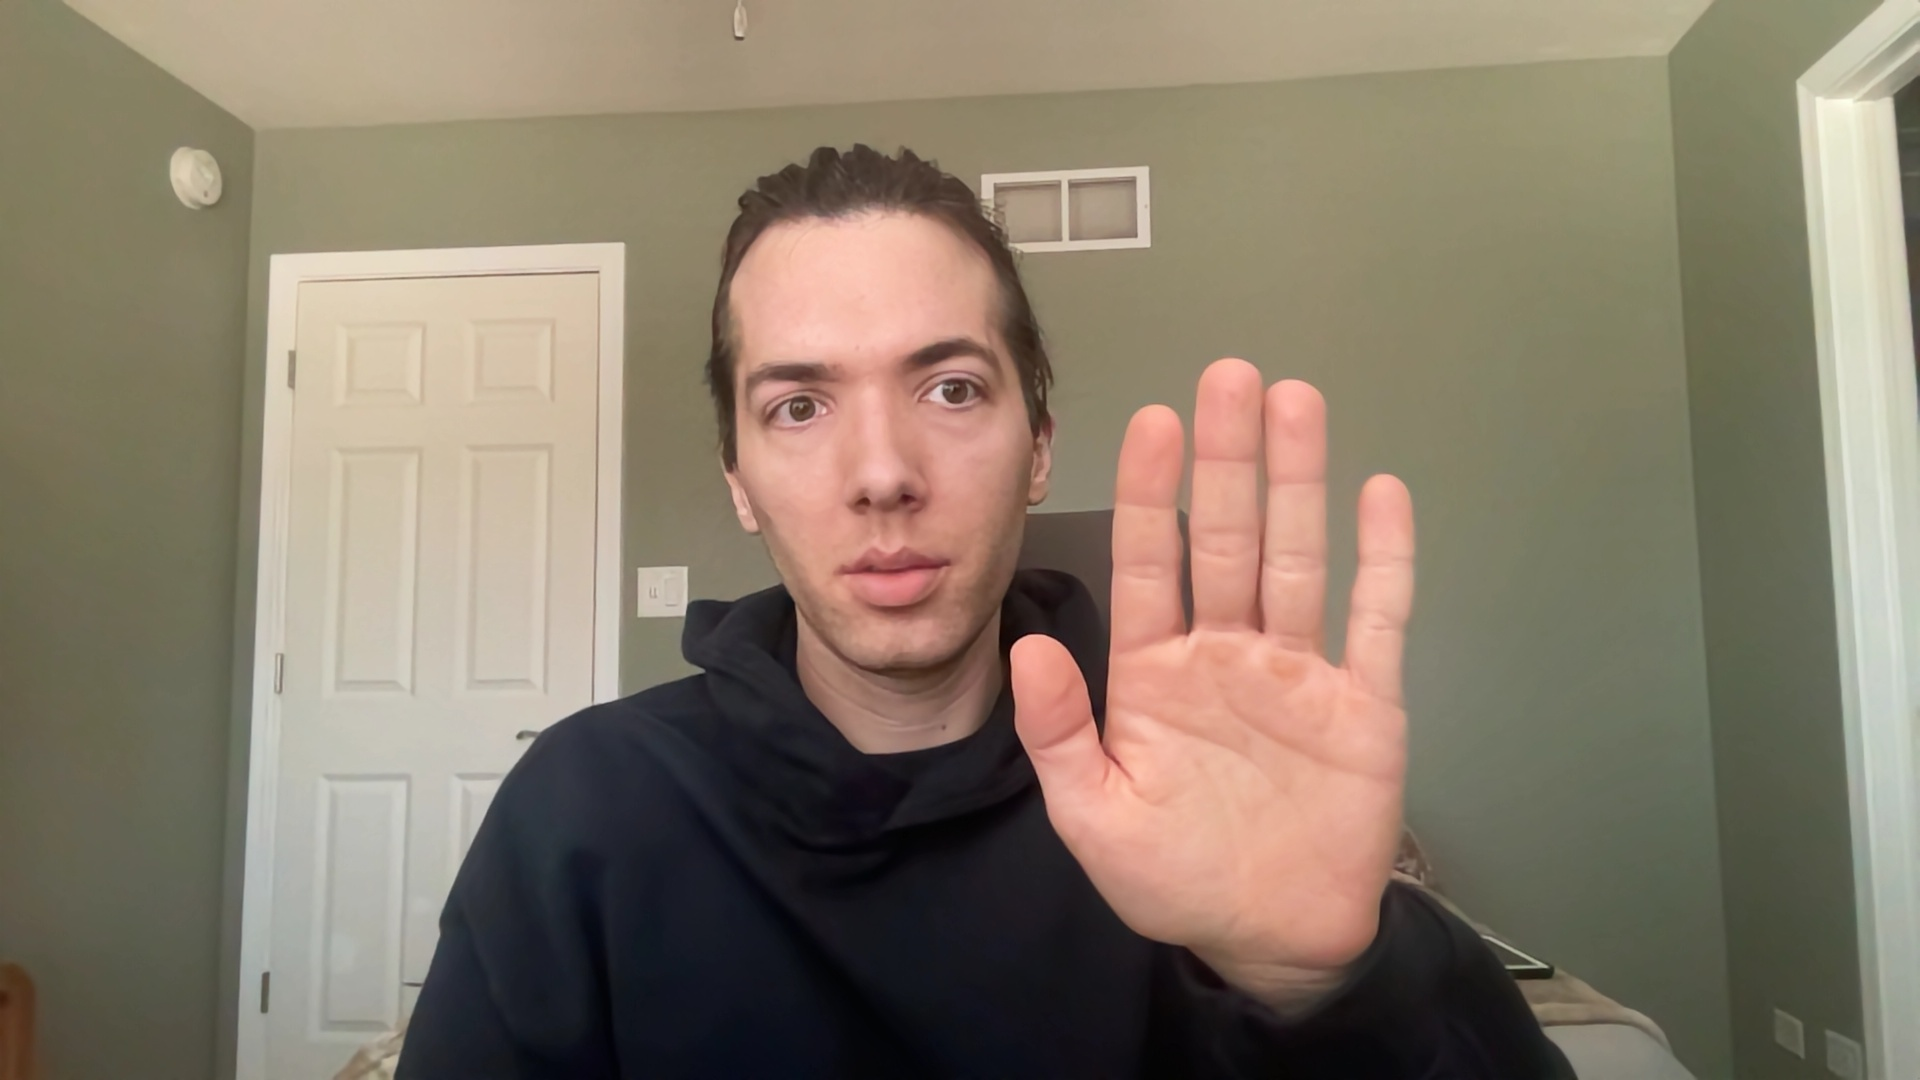Hello: (997, 347, 1433, 985)
